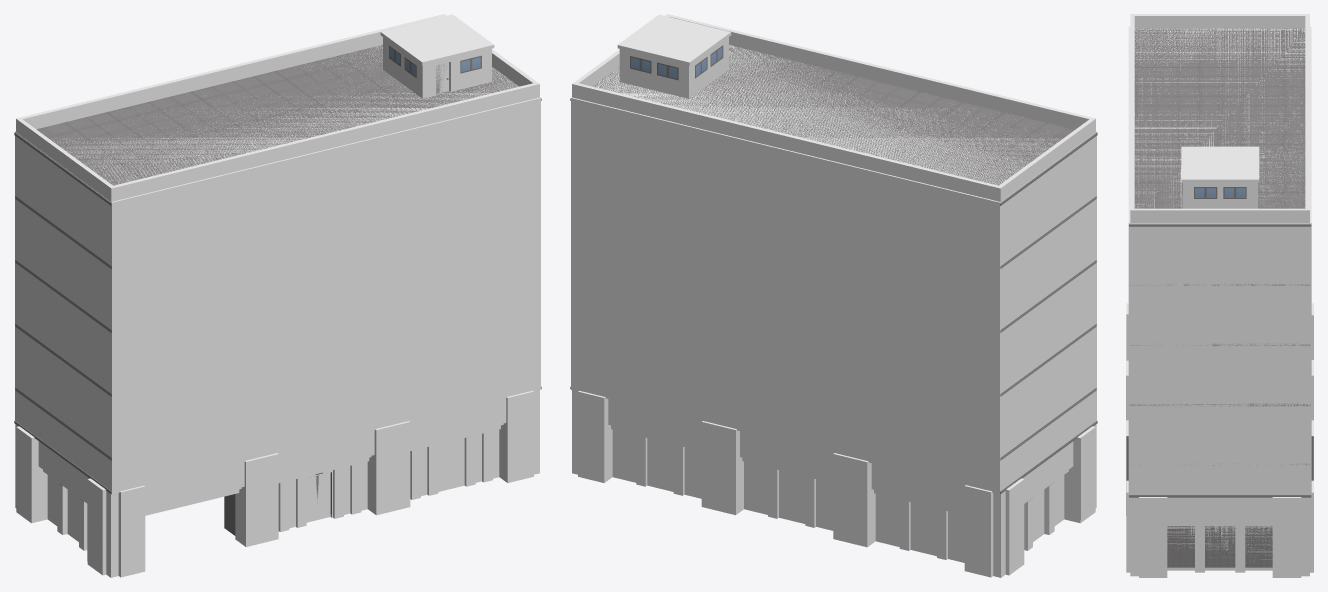
File: objects_un_c03building04_shop.gltf
3 views of the same model, side by side, from view 1: azimuth 30°, elevation 25°; view 2: azimuth 150°, elevation 25°; view 3: azimuth 270°, elevation 25° (orthographic). The views are drawn at different scales.
Parts seen in each view (by area): view 1: um_objects_un_c03building04_shop_model_lod0Shape:objects_un_ (×3), um_objects_un_c03building04_shop_model_lod1Shape:objects_un_ (×2), um_objects_un_c03building04_shop_model_lod2Shape:objects_un_; view 2: um_objects_un_c03building04_shop_model_lod0Shape:objects_un_ (×3), um_objects_un_c03building04_shop_model_lod2Shape:objects_un_, um_objects_un_c03building04_shop_model_lod1Shape:objects_un_ (×2); view 3: um_objects_un_c03building04_shop_model_lod0Shape:objects_un_ (×3), um_objects_un_c03building04_shop_model_lod2Shape:objects_un_ (×2), um_objects_un_c03building04_shop_model_lod1Shape:objects_un_ (×2), nomerge_glass01_shape:objects_un_c03building01_glass01.
Part boxes in pixels (x1,y1,x2,y2): um_objects_un_c03building04_shop_model_lod0Shape:objects_un_ (×3): (14, 14, 541, 577); um_objects_un_c03building04_shop_model_lod1Shape:objects_un_ (×2): (14, 45, 541, 561); um_objects_un_c03building04_shop_model_lod2Shape:objects_un_: (36, 45, 495, 514); um_objects_un_c03building04_shop_model_lod0Shape:objects_un_ (×3): (570, 14, 1097, 577); um_objects_un_c03building04_shop_model_lod2Shape:objects_un_: (593, 45, 1075, 185); um_objects_un_c03building04_shop_model_lod1Shape:objects_un_ (×2): (570, 45, 1097, 519); um_objects_un_c03building04_shop_model_lod0Shape:objects_un_ (×3): (1126, 14, 1313, 577); um_objects_un_c03building04_shop_model_lod2Shape:objects_un_ (×2): (1126, 28, 1313, 497); um_objects_un_c03building04_shop_model_lod1Shape:objects_un_ (×2): (1129, 29, 1310, 495); nomerge_glass01_shape:objects_un_c03building01_glass01: (1195, 188, 1245, 197).
Size of what is drawn, in the model's own units: 30.41 by 27.51 by 12.06.
7 materials, 6 textured.
